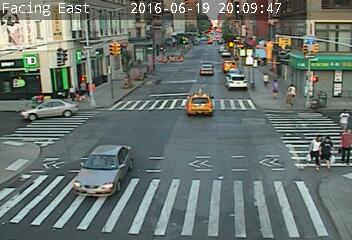neg: (171, 41, 192, 69), (187, 30, 206, 56), (116, 73, 135, 98), (89, 57, 106, 80), (135, 52, 148, 71), (25, 92, 38, 110), (196, 92, 209, 108), (114, 50, 125, 65), (110, 154, 121, 168), (91, 155, 101, 169), (163, 51, 173, 65)
pos: (317, 135, 340, 166), (332, 129, 351, 164), (302, 134, 323, 162), (282, 81, 302, 107), (73, 80, 91, 103), (269, 78, 285, 100), (337, 108, 351, 129), (258, 71, 272, 89), (65, 85, 77, 101)
